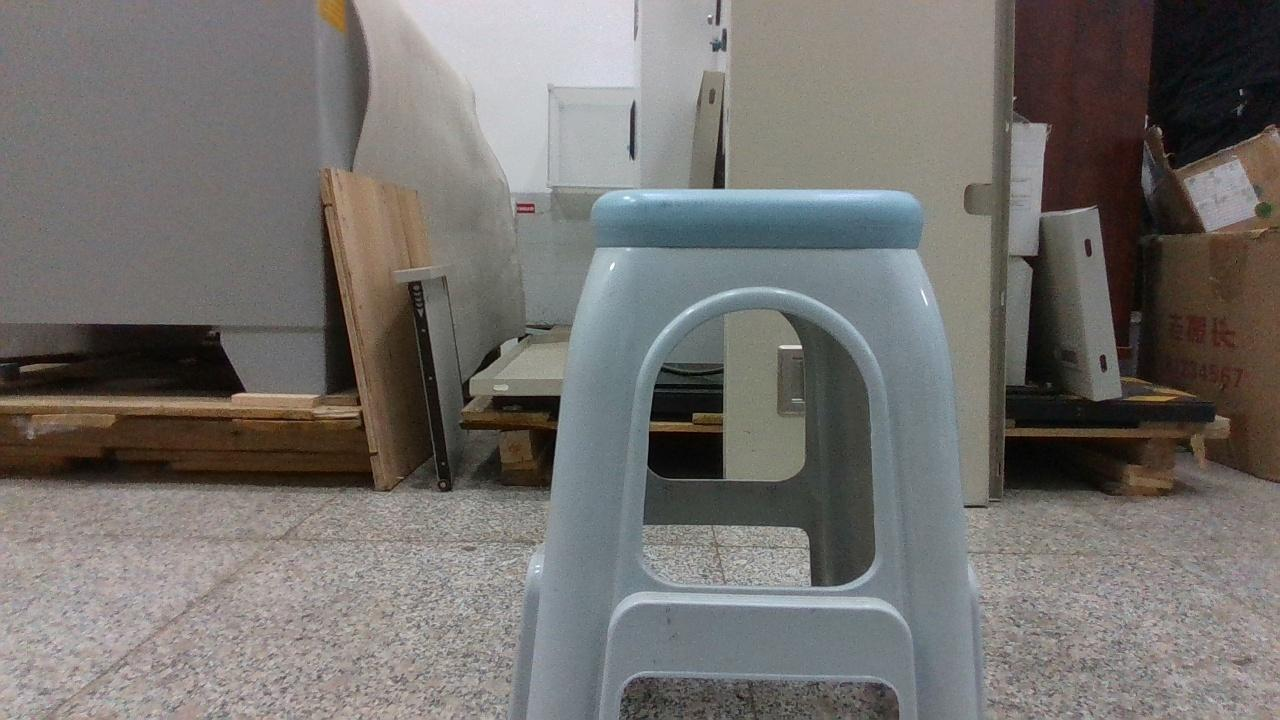stool: (510, 190, 982, 718)
